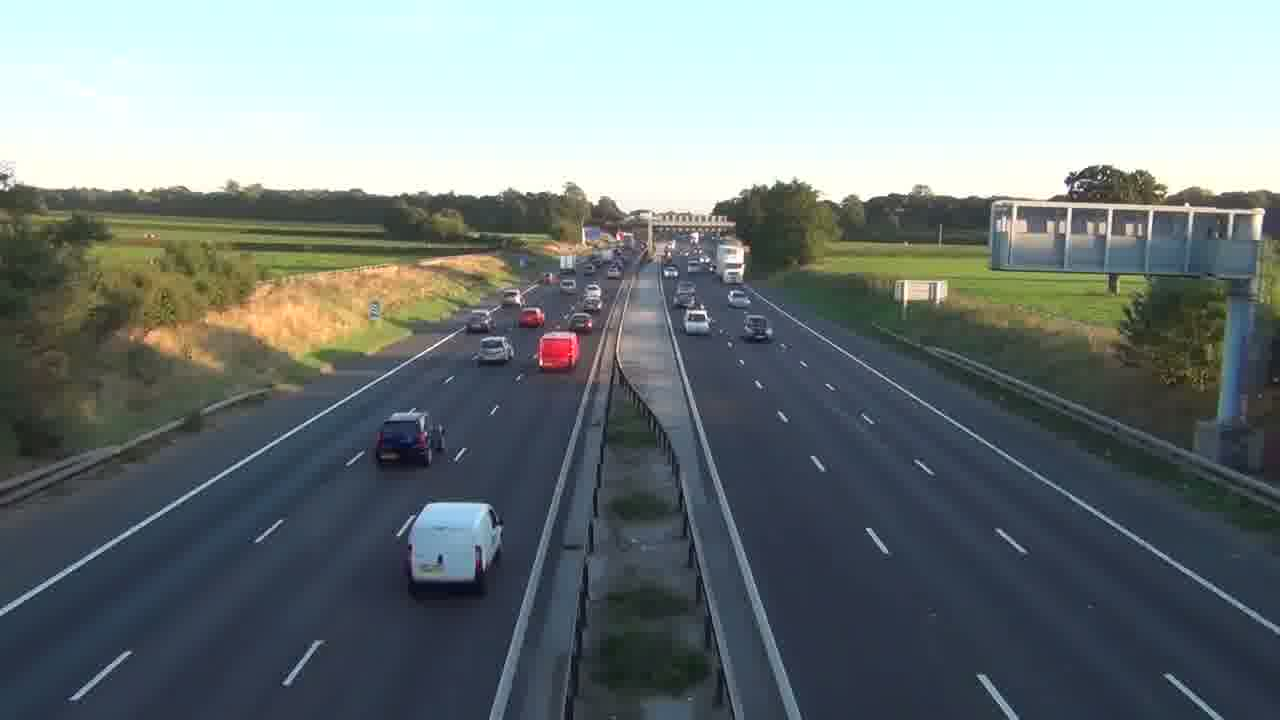car: (375, 409, 433, 465), (477, 335, 514, 365), (742, 314, 773, 342), (684, 307, 711, 335), (517, 306, 545, 328), (727, 287, 751, 309), (567, 314, 593, 332)
truck: (400, 500, 505, 596)
